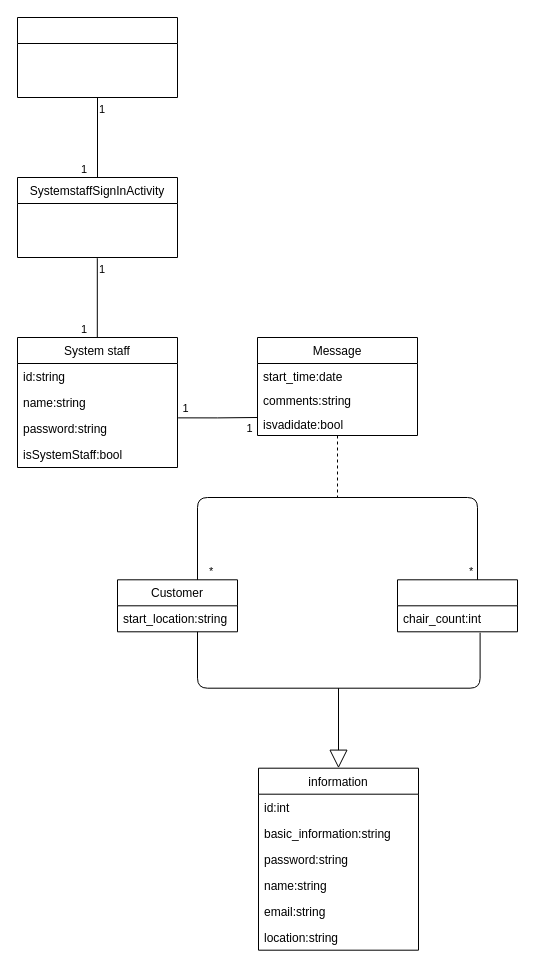
Image size: 535x971. Some labels were removed from this diagram. Here are the shapes that lost their labels. From the top down, the box of each, then its label:
(16, 16, 178, 98): SignInActiivity
(396, 579, 518, 632): Driver
